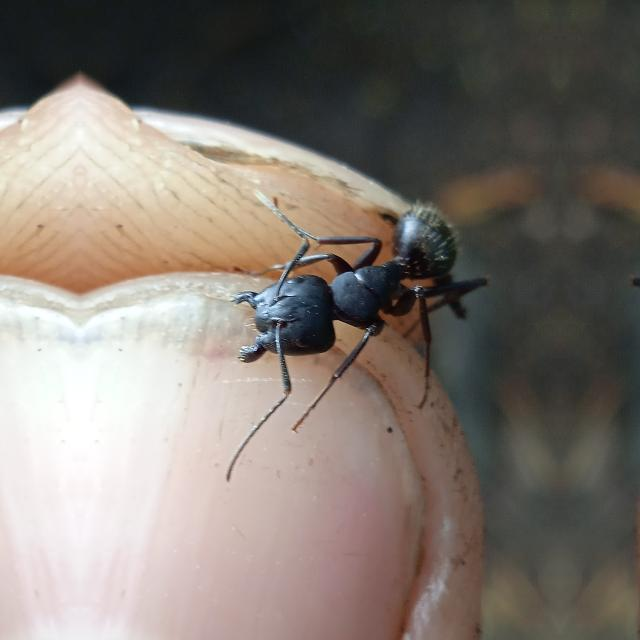Camponotus: (228, 178, 480, 412)
